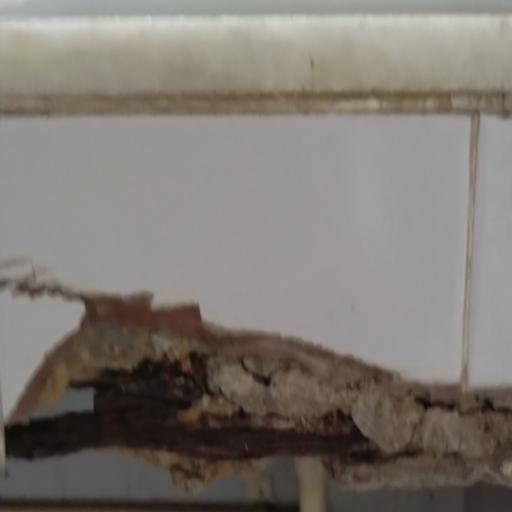spalling: (5, 259, 512, 488)
